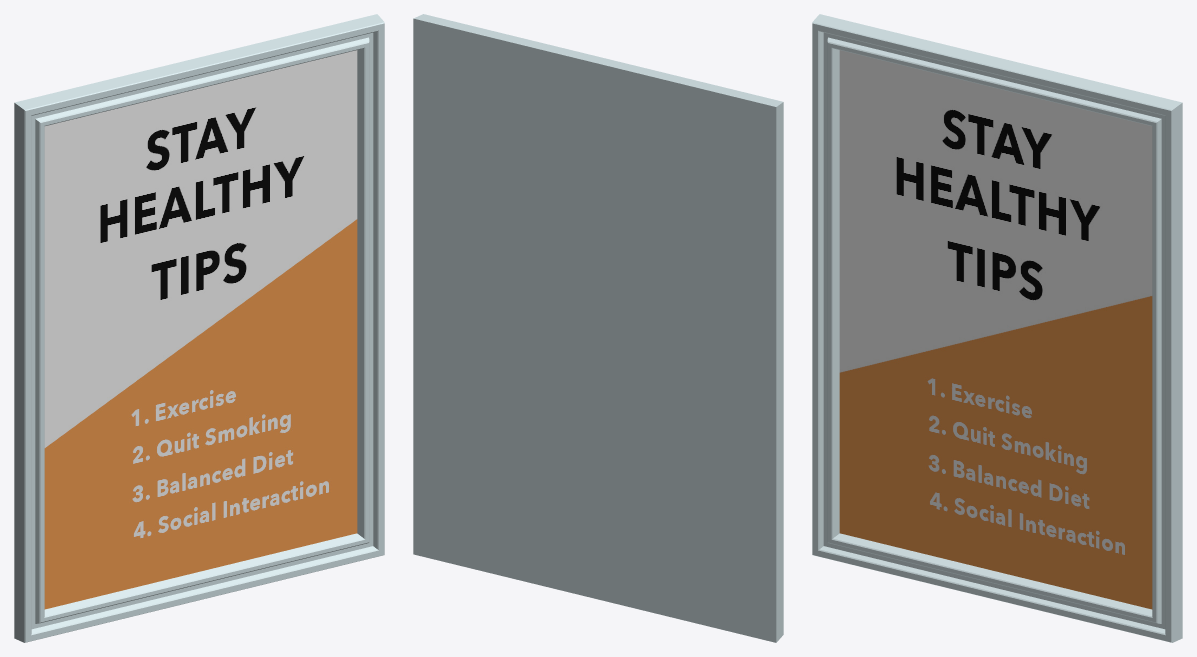
Rendered from aws_PortraitE_01_visual.DAE.
3 views of the same model, side by side, from view 1: azimuth 30°, elevation 25°; view 2: azimuth 150°, elevation 25°; view 3: azimuth 330°, elevation 25° (orthographic).
Parts seen in each view (by area): view 1: aws_PortraitE_01_visual; view 2: aws_PortraitE_01_visual; view 3: aws_PortraitE_01_visual.
Boxes of the visible parts, bbox=[...] form: aws_PortraitE_01_visual: bbox=[14, 14, 384, 642]; aws_PortraitE_01_visual: bbox=[413, 14, 783, 642]; aws_PortraitE_01_visual: bbox=[812, 14, 1182, 642].
Bounding box in the file's own units: 54.13 × 2.38 × 76.35.
Materials: 2 (2 with a texture image).
